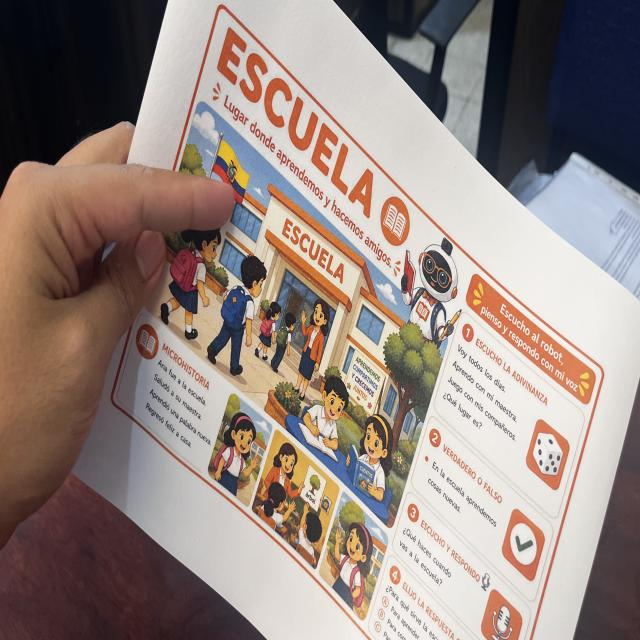escuela: (107, 4, 607, 640)
